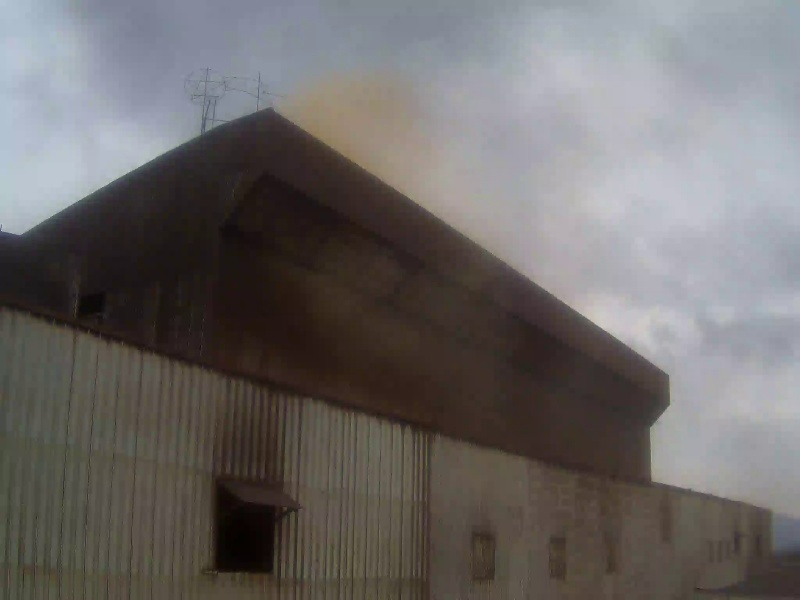bom: (584, 224, 791, 432), (14, 7, 262, 173)
ruim: (286, 47, 542, 358)
